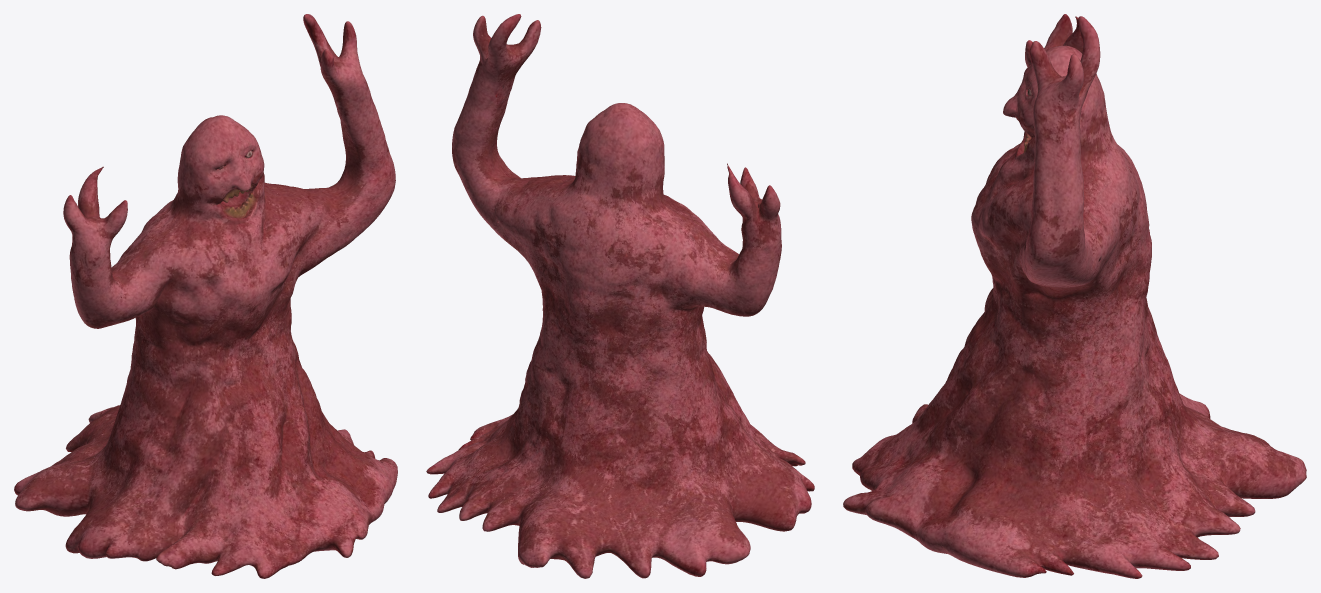
Rendered from MZ4250 - Lemur.glb.
3 views of the same model, side by side, from view 1: azimuth 30°, elevation 25°; view 2: azimuth 150°, elevation 25°; view 3: azimuth 270°, elevation 25° (orthographic). The views are drawn at different scales.
Visible parts, largest first — view 1: default; view 2: default; view 3: default.
Part boxes in pixels (<box>): default: <box>14,14,397,578</box>; default: <box>426,14,814,578</box>; default: <box>843,14,1306,578</box>.
Size of the model in its own units: 0.7507 by 1.01 by 0.7827.
Materials: 1 (1 with a texture image).
